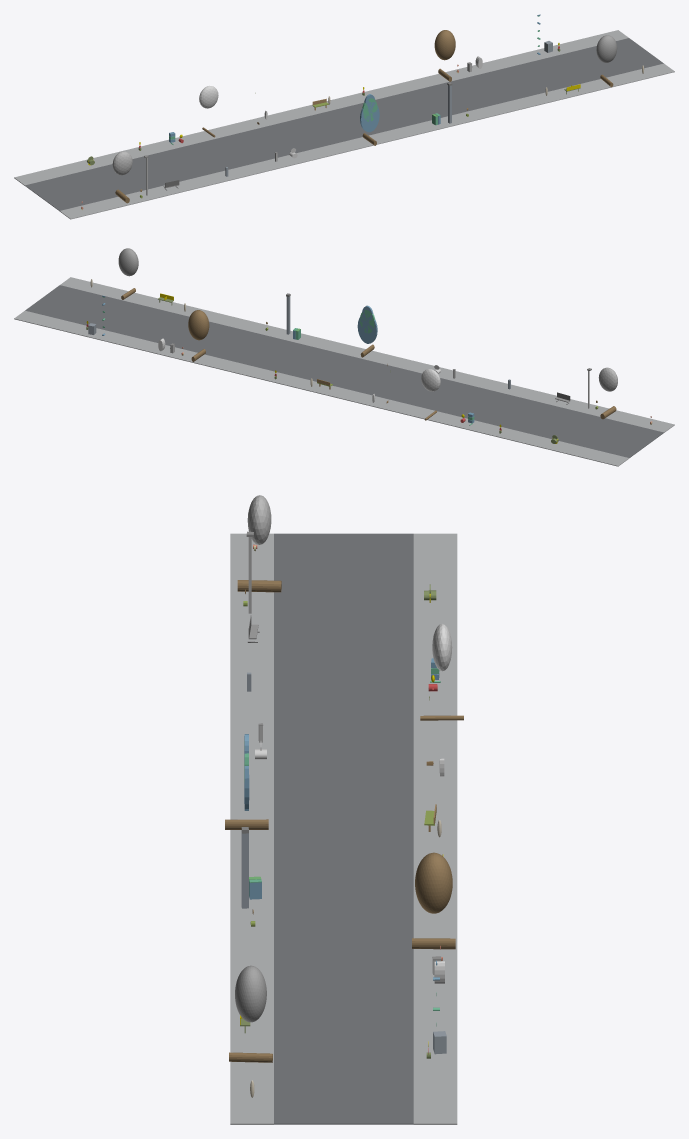
The picture shows the model from 3 angles, top to bottom: view 1: azimuth 30°, elevation 25°; view 2: azimuth 150°, elevation 25°; view 3: azimuth 270°, elevation 25°; orthographic projection. The views are drawn at different scales.
Visible parts, largest first — view 1: road_slab, sidewalk_left, sidewalk_right, inst_0014, inst_0015, inst_0016, inst_0012, inst_0013; view 2: road_slab, sidewalk_right, sidewalk_left, inst_0014, inst_0015, inst_0016, inst_0012, inst_0013; view 3: road_slab, sidewalk_right, sidewalk_left, inst_0015, inst_0016, inst_0012, inst_0013.
Boxes of the visible parts, x1,y1,x2,y2 form: road_slab: (25,38,663,210); sidewalk_left: (59,63,674,219); sidewalk_right: (14,30,628,185); inst_0014: (360,94,379,145); inst_0015: (434,30,455,81); inst_0016: (596,35,617,87); inst_0012: (112,151,132,203); inst_0013: (199,86,218,137); road_slab: (25,285,663,457); sidewalk_right: (14,310,629,466); sidewalk_left: (60,277,674,432); inst_0014: (357,305,377,357); inst_0015: (188,310,209,361); inst_0016: (118,248,138,299); inst_0012: (598,367,617,419); inst_0013: (421,369,440,420); road_slab: (274,533,413,1124); sidewalk_right: (413,533,457,1124); sidewalk_left: (230,533,273,1124); inst_0015: (412,852,455,949); inst_0016: (229,965,272,1062); inst_0012: (237,495,281,592); inst_0013: (420,624,463,720).
Size of the model in its own units: 80 by 6.08 by 13.71.
